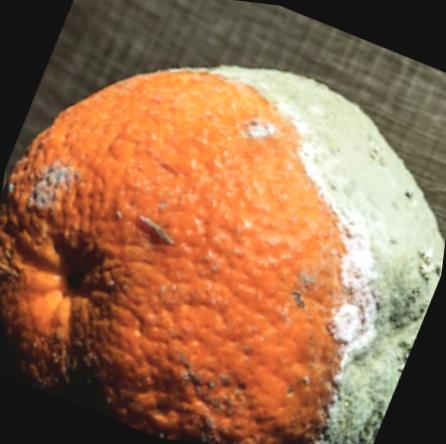Orange Rotten: (0, 32, 446, 444)
